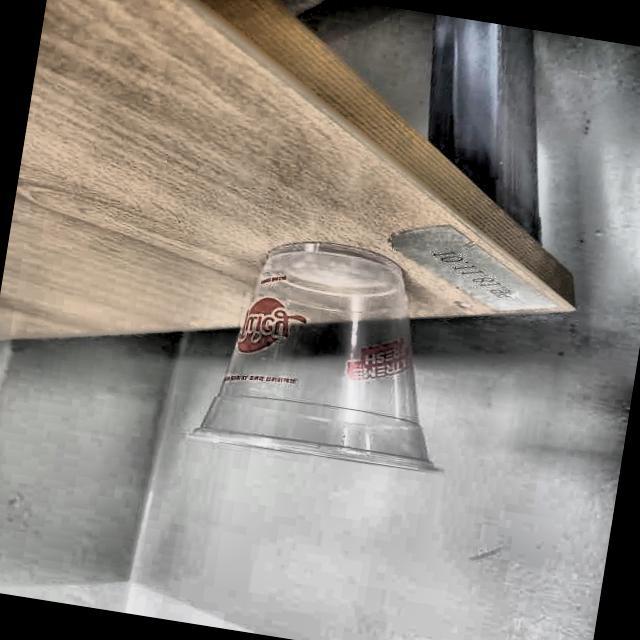plastic cup: (188, 223, 478, 482)
